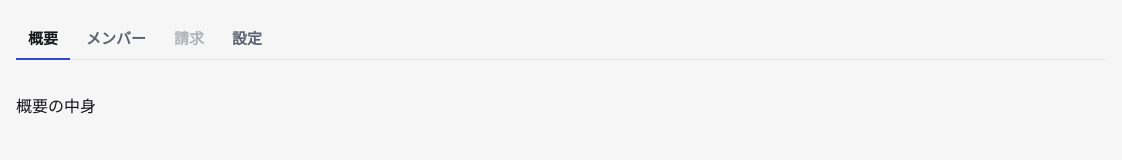
Test: タブ / U-17 › activation='manual' では矢印はフォーカスだけを動かし、Enter / Space で選ぶ
Click the tab "概要".
click(43, 38)  # box left=16, top=16, right=70, bottom=60
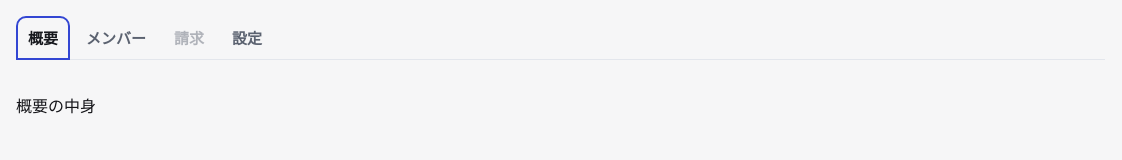
Press Arrowright
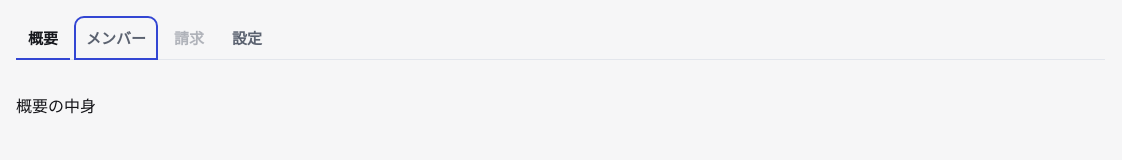
Press Enter
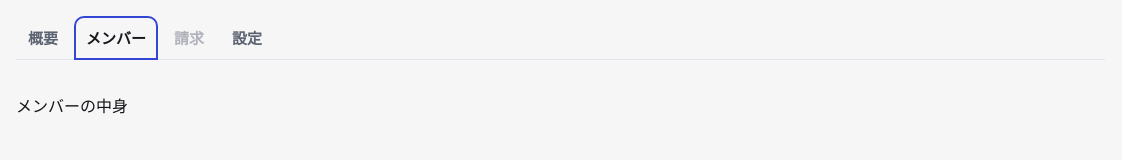
Now the panel "メンバー" reads "メンバーの中身", box left=16, top=95, right=128, bottom=117
